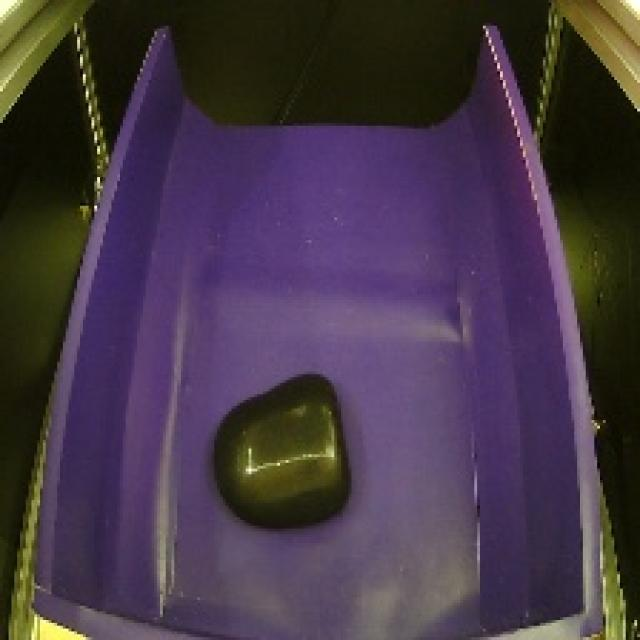cobbles: (210, 361, 360, 539)
